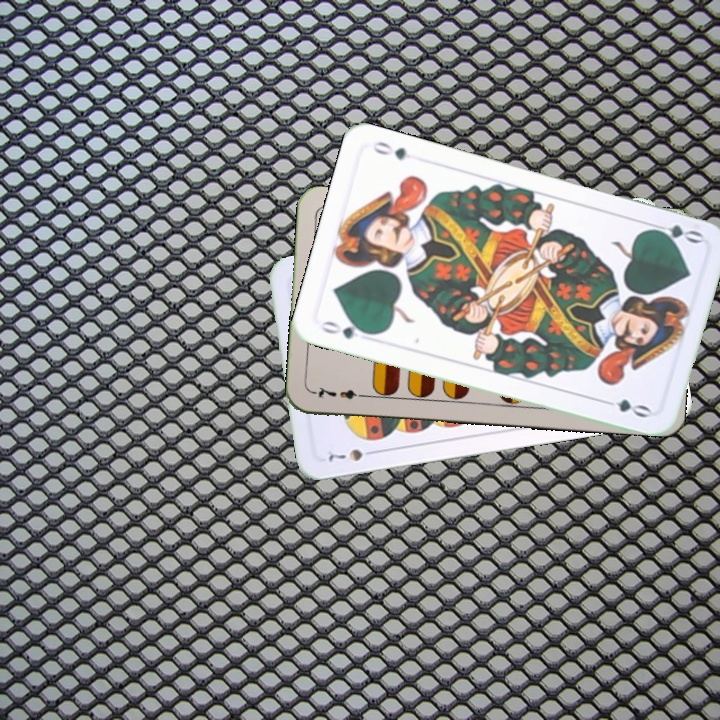E7: (310, 382, 369, 402)
GO: (644, 218, 704, 246), (317, 316, 375, 342)
S7: (324, 444, 380, 464)
